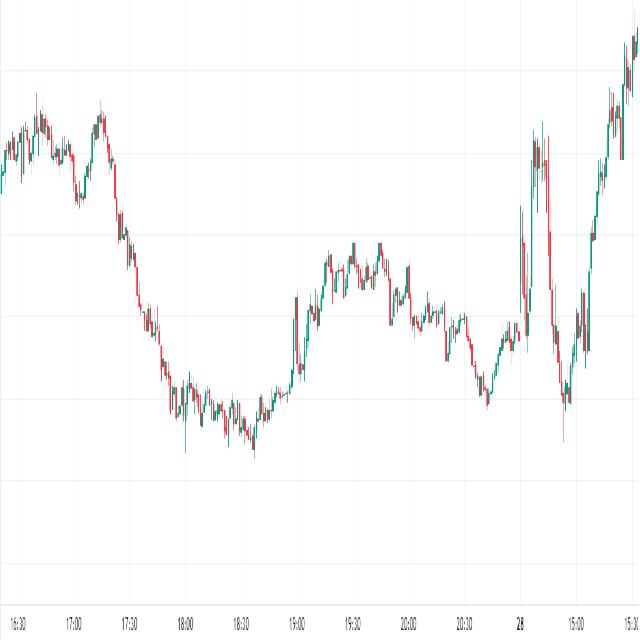Cup-and-handle: (145, 280, 313, 468)
Rounding-Bottom: (152, 284, 300, 465)
Rounding-Top: (303, 218, 480, 372)
